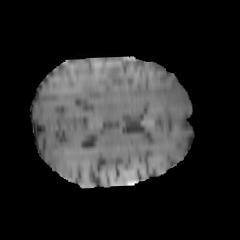glioma: (74, 57, 187, 109)
